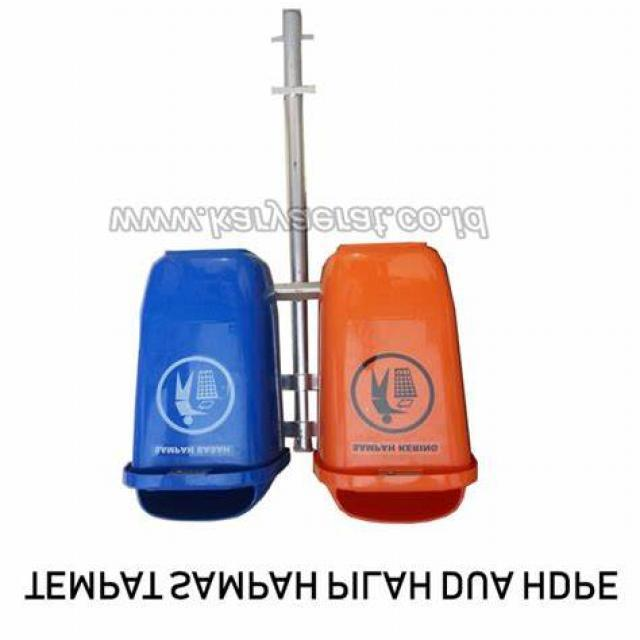garbage container: (85, 232, 296, 542), (320, 233, 493, 539)
